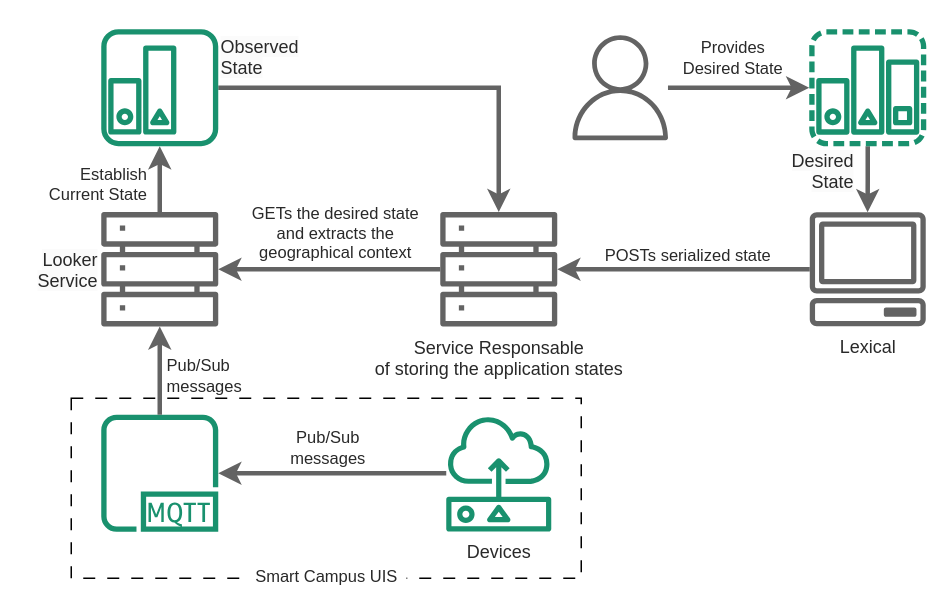
Some shapes in this 951 by 615 pixel diagram are drawn without their labels. The centre of each missing label's shape, as x and y in pixels:
"Broker" goes at point (159, 472).
"User" goes at point (619, 87).
